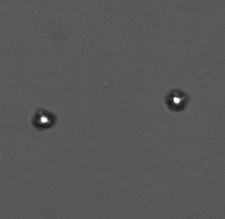Living Cell: (166, 90, 188, 111), (32, 110, 55, 129)
